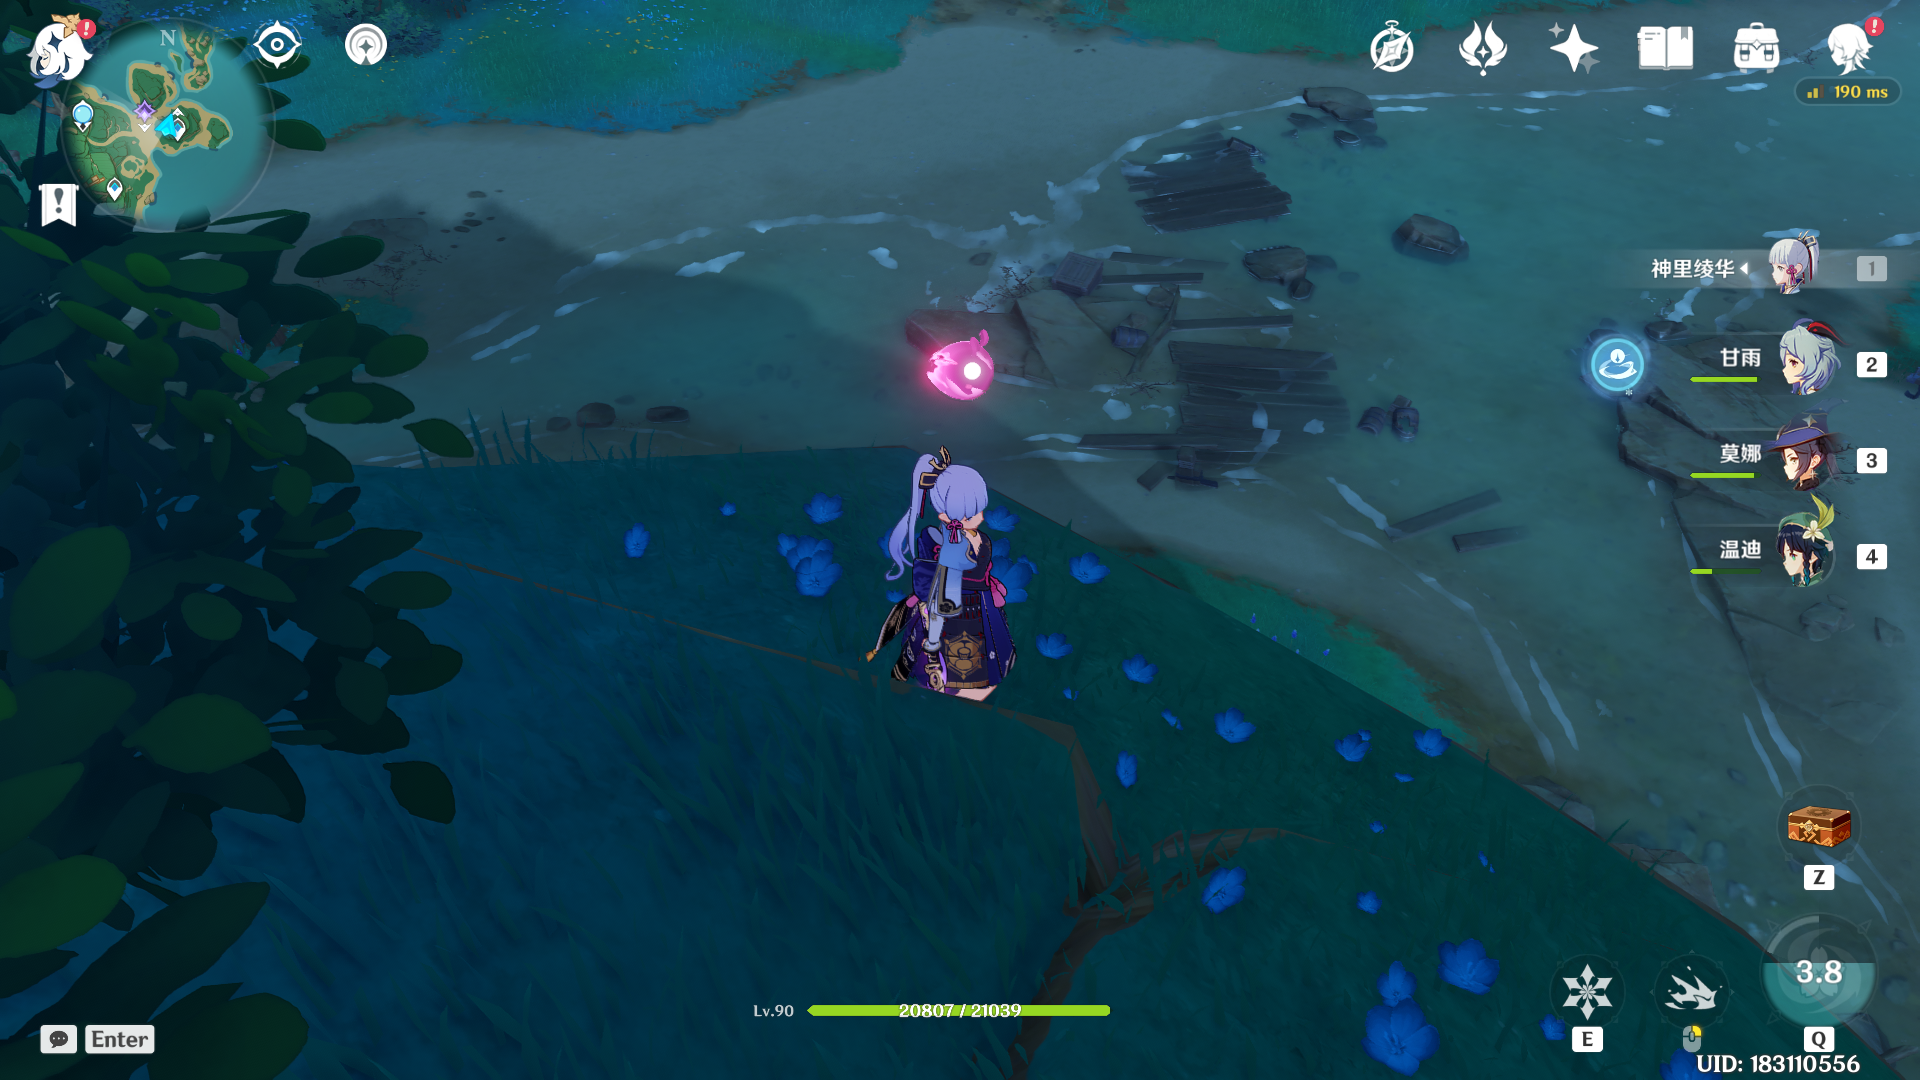character: (841, 440, 1116, 785)
